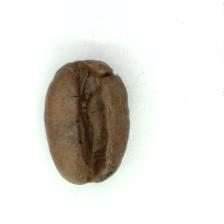NG: (72, 66, 112, 180)
